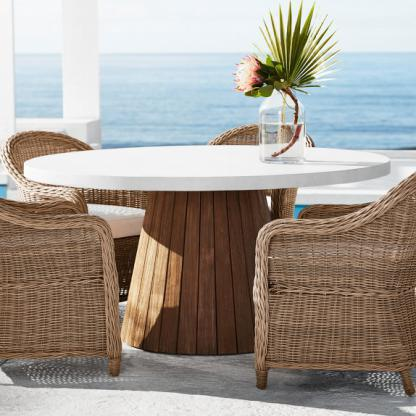table: (21, 140, 394, 359)
